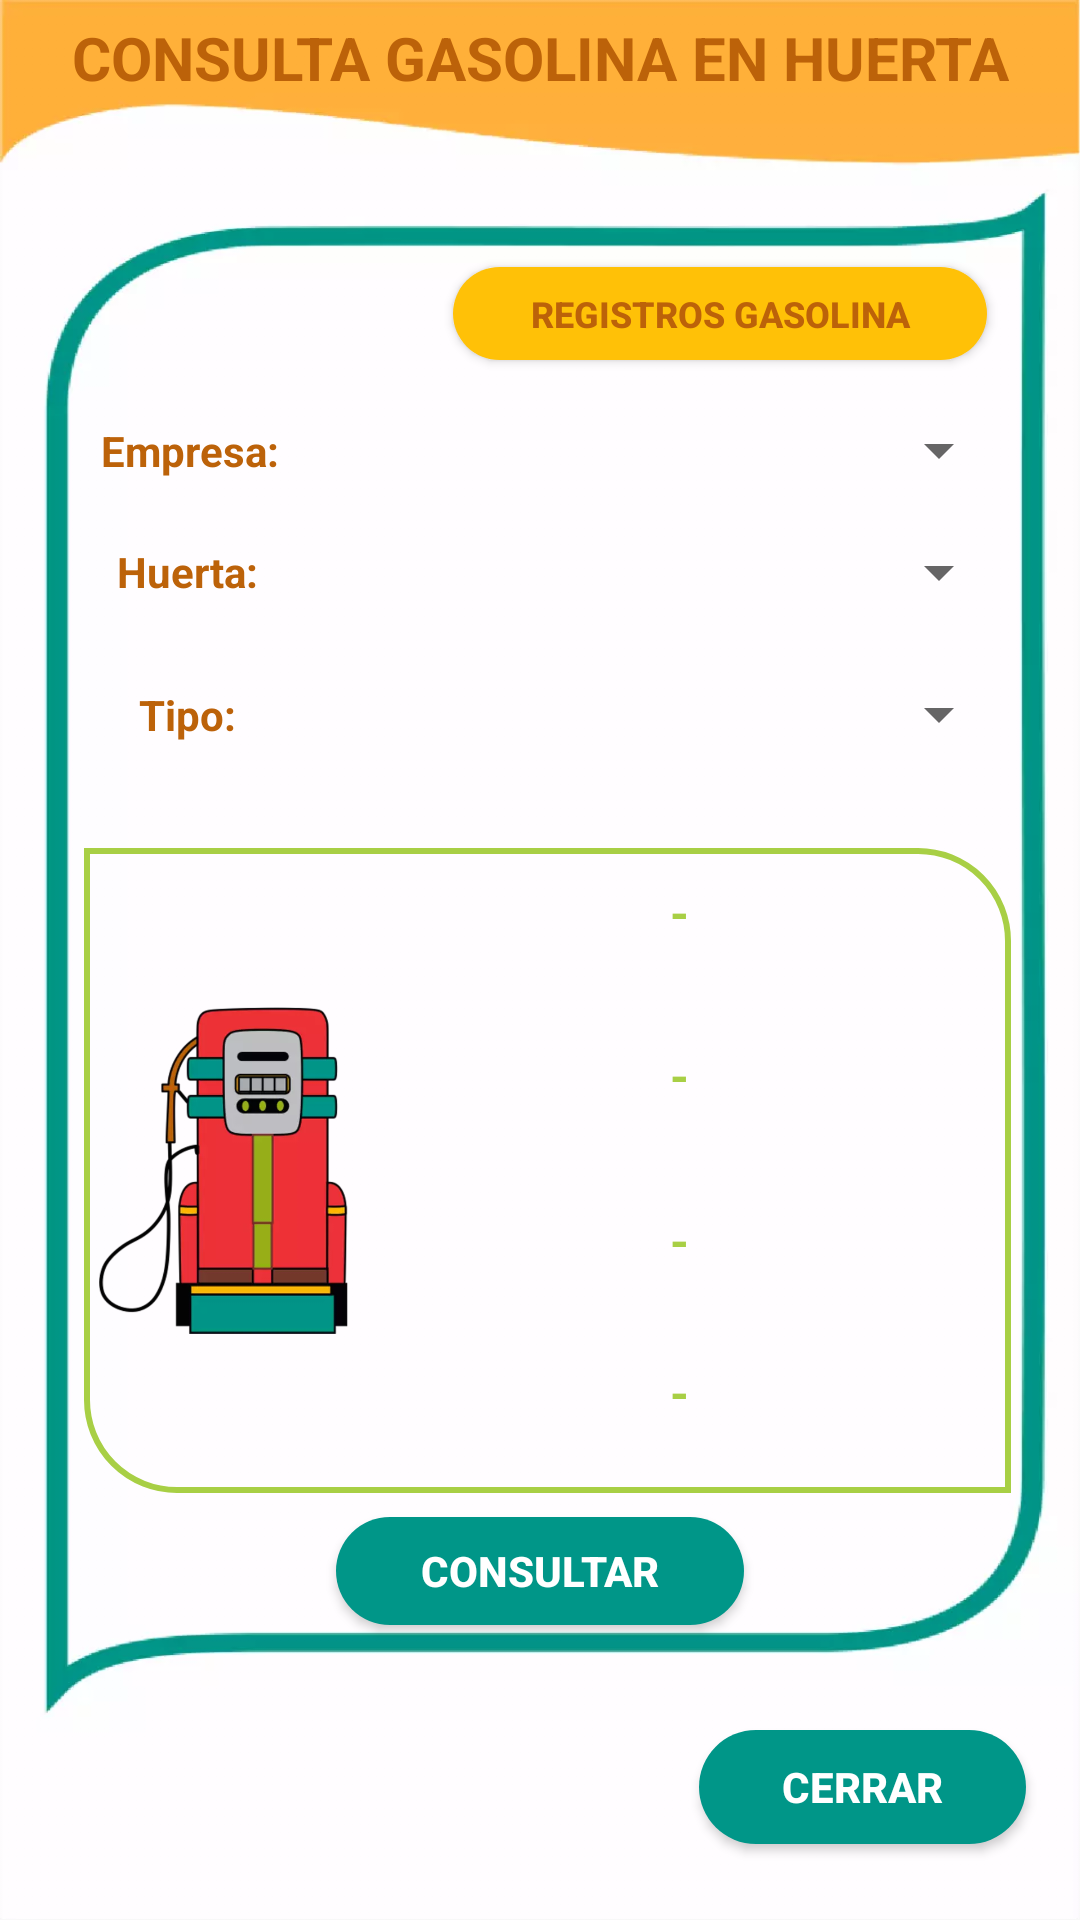

Screen size 1080x1920. Icon name, then its center in pixels as (x=x, y=y):
gasolina: (x=223, y=1170)
